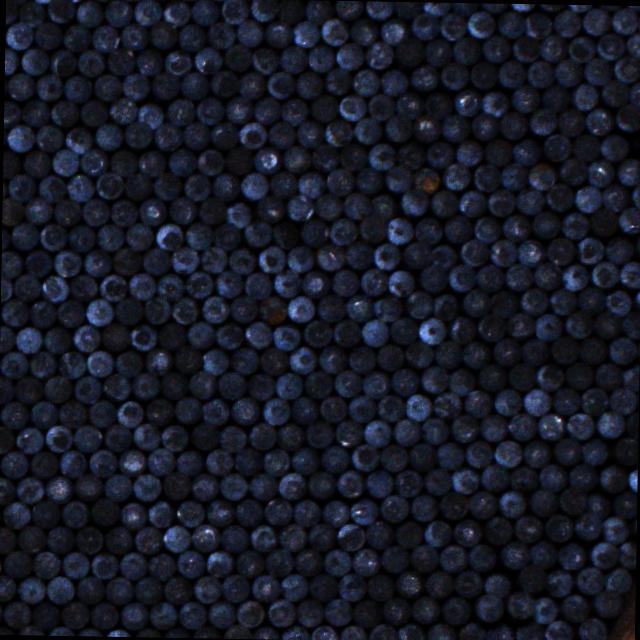tool: (342, 190, 372, 220), (256, 294, 286, 324), (558, 484, 588, 514), (592, 587, 622, 616), (154, 272, 183, 302), (509, 464, 538, 493), (359, 318, 388, 347), (224, 144, 252, 174), (298, 218, 328, 246), (595, 408, 623, 438), (558, 592, 588, 620), (100, 322, 128, 352), (44, 474, 72, 504), (482, 516, 512, 544), (588, 540, 616, 570), (120, 600, 148, 630), (254, 194, 283, 222), (462, 388, 490, 417), (552, 437, 581, 465), (538, 462, 567, 490), (388, 315, 417, 343), (217, 370, 245, 399), (304, 369, 332, 398), (390, 367, 418, 396), (88, 448, 116, 477), (73, 472, 101, 501), (2, 499, 30, 528), (190, 522, 218, 551), (234, 549, 262, 578), (438, 544, 467, 572), (352, 599, 381, 627), (89, 601, 118, 629), (273, 268, 300, 298), (46, 524, 73, 554), (278, 522, 305, 552), (411, 594, 438, 624), (466, 9, 494, 37), (192, 46, 220, 74), (395, 36, 423, 64), (266, 70, 294, 98), (526, 60, 554, 88), (424, 92, 452, 120), (338, 142, 366, 170), (366, 142, 394, 170), (589, 208, 617, 236), (152, 172, 180, 200), (326, 167, 354, 195), (530, 210, 558, 238), (314, 192, 342, 220), (184, 221, 212, 249), (38, 222, 66, 250), (154, 222, 182, 250), (112, 247, 140, 275), (52, 249, 80, 277), (315, 242, 343, 270), (459, 238, 487, 266), (488, 238, 516, 266), (474, 262, 502, 290), (416, 316, 444, 344), (544, 513, 572, 541), (575, 565, 603, 593), (476, 313, 504, 341), (577, 336, 605, 364), (550, 336, 578, 364), (520, 337, 548, 365), (492, 338, 520, 366), (578, 386, 606, 414), (522, 388, 550, 416), (514, 514, 542, 542), (528, 539, 556, 567), (516, 564, 544, 592), (441, 596, 469, 624), (84, 298, 112, 326), (200, 295, 228, 323), (156, 322, 184, 350), (316, 293, 344, 321), (344, 292, 372, 320), (230, 346, 258, 374), (258, 346, 286, 374), (318, 344, 346, 372), (14, 375, 42, 403), (102, 372, 130, 400), (130, 371, 158, 399), (58, 400, 86, 428), (230, 396, 258, 424), (262, 396, 290, 424), (318, 394, 346, 422), (346, 393, 374, 421), (72, 424, 100, 452), (190, 421, 218, 449), (304, 420, 332, 448), (362, 418, 390, 446), (420, 416, 448, 444), (146, 447, 174, 475), (320, 444, 348, 472), (350, 443, 378, 471), (379, 443, 407, 471), (132, 472, 160, 500), (189, 472, 217, 500), (218, 472, 246, 500), (248, 472, 276, 500), (364, 469, 392, 497), (380, 494, 408, 522), (219, 524, 247, 552), (336, 522, 364, 550), (365, 520, 393, 548), (600, 515, 628, 543), (147, 553, 175, 581), (175, 550, 203, 578), (264, 548, 292, 576), (294, 547, 322, 575), (322, 548, 350, 576), (192, 574, 220, 602), (279, 572, 307, 600), (308, 572, 336, 600), (394, 569, 422, 597), (424, 570, 452, 598), (266, 598, 294, 626), (235, 599, 263, 627), (60, 600, 88, 628), (49, 98, 78, 125), (188, 369, 215, 398), (361, 369, 388, 398), (432, 391, 461, 418), (351, 547, 378, 576), (504, 312, 534, 338), (74, 374, 100, 404), (162, 470, 188, 500), (91, 24, 118, 52), (320, 17, 347, 45), (380, 17, 408, 44), (411, 12, 438, 40), (334, 42, 362, 69), (364, 41, 392, 68), (481, 34, 508, 62), (180, 71, 207, 99), (166, 97, 194, 124), (5, 123, 32, 151), (352, 117, 380, 144), (51, 148, 78, 176), (483, 138, 511, 165), (442, 162, 469, 190), (499, 162, 526, 190), (545, 183, 573, 210), (296, 170, 323, 198), (384, 164, 411, 192), (24, 196, 51, 224), (52, 198, 80, 225), (329, 217, 356, 245), (170, 246, 197, 274), (12, 274, 40, 301), (41, 274, 68, 302), (98, 273, 125, 301), (419, 264, 446, 292), (545, 237, 573, 264), (576, 235, 603, 263), (604, 235, 632, 262), (505, 262, 532, 290), (214, 270, 241, 298), (243, 272, 270, 300), (300, 270, 327, 298), (359, 267, 386, 295), (404, 290, 431, 318), (434, 338, 461, 366), (478, 412, 505, 440), (493, 439, 520, 467), (518, 287, 546, 314), (577, 286, 604, 314), (592, 311, 620, 338), (608, 337, 636, 364), (461, 340, 488, 368), (507, 412, 535, 439), (522, 440, 549, 468), (599, 464, 626, 492), (568, 464, 596, 491), (497, 490, 525, 517), (228, 294, 255, 322), (186, 320, 213, 348), (244, 320, 271, 348), (304, 319, 332, 346), (57, 350, 84, 378), (174, 344, 201, 372), (288, 344, 315, 372), (159, 371, 186, 399), (333, 368, 360, 396), (376, 394, 404, 421), (404, 392, 431, 420), (218, 424, 245, 452), (334, 418, 361, 446), (392, 418, 419, 446), (0, 449, 27, 477), (29, 450, 56, 478), (118, 448, 145, 476), (233, 447, 261, 474), (290, 446, 317, 474), (435, 442, 463, 469), (15, 476, 42, 504), (276, 472, 304, 499), (306, 471, 334, 498), (394, 468, 421, 496), (450, 466, 477, 494), (468, 491, 496, 518), (61, 500, 88, 528), (90, 498, 117, 526), (175, 499, 203, 526), (234, 498, 261, 526), (292, 498, 319, 526), (409, 493, 436, 521), (17, 524, 44, 552), (162, 523, 189, 551), (453, 518, 480, 546), (61, 550, 88, 578), (118, 551, 145, 579), (205, 550, 232, 578), (380, 544, 407, 572), (409, 544, 436, 572), (16, 576, 44, 603), (46, 575, 73, 603), (105, 576, 132, 604), (134, 576, 161, 604), (164, 576, 191, 604), (221, 573, 248, 601), (382, 596, 409, 624), (207, 600, 234, 628), (178, 601, 205, 629), (149, 600, 176, 628), (2, 600, 30, 627), (242, 220, 271, 246), (348, 498, 377, 524), (34, 21, 61, 48), (149, 20, 176, 47), (106, 47, 133, 74), (164, 49, 191, 76), (223, 43, 250, 70), (121, 72, 148, 99), (109, 96, 136, 123), (396, 91, 423, 118), (499, 111, 526, 138), (253, 146, 280, 173), (123, 173, 150, 200), (355, 167, 382, 194), (458, 189, 485, 216), (501, 214, 528, 241), (81, 198, 108, 225), (198, 197, 225, 224), (11, 222, 38, 249), (125, 222, 152, 249), (23, 249, 50, 276), (516, 239, 543, 266), (493, 388, 520, 415), (536, 412, 563, 439), (499, 541, 526, 568), (72, 324, 99, 351), (272, 323, 299, 350), (115, 349, 142, 376), (420, 365, 447, 392), (88, 399, 115, 426), (173, 396, 200, 423), (15, 425, 42, 452), (103, 423, 130, 450), (132, 422, 159, 449), (248, 422, 275, 449), (450, 414, 477, 441), (58, 449, 85, 476), (103, 474, 130, 501), (205, 499, 232, 526), (103, 0, 131, 26), (133, 0, 161, 26), (120, 22, 146, 50), (236, 18, 262, 46), (264, 21, 292, 47), (292, 19, 318, 47), (439, 12, 465, 40), (522, 12, 550, 38), (582, 8, 610, 34), (19, 48, 47, 74), (250, 46, 276, 74), (278, 46, 306, 72), (596, 33, 624, 59), (6, 72, 32, 100), (555, 58, 581, 86), (252, 96, 278, 124), (309, 94, 337, 120), (571, 82, 597, 110), (168, 148, 194, 176), (282, 146, 310, 172), (454, 140, 482, 166), (512, 138, 538, 166), (542, 134, 570, 160), (571, 134, 599, 160), (599, 134, 627, 160), (526, 163, 554, 189), (558, 158, 586, 184), (560, 212, 588, 238), (7, 172, 33, 200), (66, 173, 92, 201), (94, 172, 122, 198), (212, 173, 238, 201), (268, 170, 294, 198), (412, 166, 438, 194), (384, 218, 412, 244), (443, 215, 471, 241), (472, 216, 500, 242), (110, 198, 136, 226), (225, 200, 251, 228), (286, 192, 312, 220), (358, 214, 384, 242), (128, 272, 154, 300), (199, 246, 227, 272), (286, 244, 312, 272), (344, 241, 372, 267), (402, 242, 430, 268), (532, 262, 560, 288), (590, 261, 618, 287), (330, 269, 358, 295), (528, 488, 556, 514), (488, 290, 516, 316), (564, 310, 590, 338), (594, 362, 620, 390), (564, 362, 592, 388), (552, 386, 578, 414), (544, 568, 572, 594), (474, 594, 502, 620), (452, 570, 480, 596), (1, 298, 27, 326), (28, 299, 54, 327), (56, 299, 82, 327), (114, 296, 140, 324), (171, 296, 197, 324), (286, 294, 312, 322), (332, 318, 358, 346), (44, 374, 70, 402), (248, 372, 274, 400), (274, 372, 302, 398), (0, 400, 26, 428), (30, 400, 56, 428), (200, 398, 228, 424), (44, 424, 70, 452), (204, 448, 232, 474), (408, 442, 434, 470), (336, 468, 362, 496), (422, 468, 450, 494), (438, 492, 466, 518), (32, 498, 58, 526), (322, 500, 348, 528), (74, 525, 100, 553), (133, 526, 161, 552), (248, 523, 274, 551), (307, 522, 333, 550), (2, 550, 30, 576), (32, 550, 58, 578), (76, 574, 102, 602), (250, 574, 278, 600), (338, 572, 364, 600), (323, 598, 351, 624), (296, 598, 322, 626), (372, 295, 401, 320), (162, 0, 189, 26), (62, 24, 88, 51), (177, 24, 203, 51), (349, 18, 376, 44), (553, 10, 579, 37), (611, 7, 637, 34), (77, 49, 103, 76), (423, 38, 449, 65), (452, 37, 478, 64), (540, 34, 566, 61), (567, 36, 594, 62), (92, 74, 119, 100), (295, 72, 322, 98), (470, 62, 496, 89), (498, 61, 524, 88), (583, 57, 609, 84), (21, 100, 48, 126), (196, 97, 222, 124), (225, 96, 251, 123), (280, 98, 306, 125), (512, 85, 538, 112), (64, 125, 90, 152), (238, 121, 264, 148), (412, 114, 438, 141), (584, 107, 610, 134), (22, 150, 49, 176), (80, 148, 106, 175), (138, 150, 164, 177), (425, 141, 452, 167), (586, 159, 612, 186), (601, 183, 627, 210), (183, 172, 209, 199), (240, 172, 266, 199), (430, 190, 456, 217), (414, 217, 440, 244), (515, 186, 542, 212), (138, 197, 164, 224), (168, 196, 194, 223), (271, 221, 297, 248), (212, 222, 238, 249), (68, 225, 94, 252), (96, 223, 122, 250), (142, 248, 169, 274), (84, 249, 110, 276), (68, 274, 95, 300), (184, 272, 211, 298), (258, 245, 284, 272), (558, 542, 584, 569), (548, 288, 575, 314), (534, 312, 560, 339), (566, 411, 592, 438), (482, 464, 508, 491), (468, 543, 494, 570), (505, 590, 532, 616), (14, 326, 41, 352), (42, 327, 69, 353), (214, 322, 241, 348), (0, 350, 26, 377), (28, 350, 54, 377), (85, 349, 111, 376), (144, 347, 170, 374), (201, 348, 228, 374), (376, 343, 402, 370), (116, 399, 142, 426), (145, 398, 172, 424), (290, 396, 317, 422), (160, 424, 187, 450), (276, 422, 302, 449), (147, 499, 173, 526), (263, 498, 290, 524), (424, 520, 451, 546), (574, 512, 600, 539), (190, 0, 218, 25), (368, 92, 393, 120), (487, 188, 512, 216), (448, 368, 473, 396), (448, 315, 473, 343), (143, 295, 168, 323), (404, 342, 432, 367), (612, 490, 637, 518), (576, 616, 605, 640), (76, 0, 102, 26), (5, 22, 31, 48), (207, 21, 233, 47), (306, 45, 332, 71), (512, 35, 538, 61), (64, 75, 90, 101), (151, 72, 177, 98), (238, 72, 264, 98), (410, 65, 436, 91), (614, 56, 640, 82), (80, 100, 106, 126), (454, 90, 480, 116), (34, 124, 60, 150), (94, 123, 120, 149), (154, 123, 180, 149), (268, 120, 294, 146), (324, 120, 350, 146), (529, 108, 555, 134), (109, 150, 135, 176), (196, 148, 222, 174), (312, 144, 338, 170), (473, 164, 499, 190), (574, 186, 600, 212), (372, 242, 398, 268), (448, 264, 474, 290), (561, 264, 587, 290), (431, 292, 457, 318), (462, 288, 488, 314), (604, 290, 630, 316), (478, 364, 504, 390), (582, 438, 608, 464), (465, 440, 491, 466), (348, 346, 374, 372), (175, 448, 201, 474), (262, 448, 288, 474), (119, 502, 145, 528), (104, 526, 130, 552), (395, 522, 421, 548), (90, 552, 116, 578), (366, 574, 392, 600), (49, 48, 74, 75), (441, 63, 466, 90), (383, 115, 410, 140), (615, 157, 640, 184), (430, 243, 455, 270), (508, 364, 535, 389), (613, 437, 638, 464), (32, 601, 57, 628), (604, 568, 632, 592), (138, 101, 162, 129), (38, 174, 62, 202), (17, 0, 42, 26), (497, 12, 522, 38), (135, 49, 161, 74), (36, 73, 61, 99), (210, 70, 235, 96), (482, 91, 508, 116), (542, 86, 568, 111), (296, 120, 321, 146), (471, 113, 496, 139), (615, 104, 640, 130), (397, 142, 422, 168), (401, 188, 426, 214), (370, 193, 395, 219), (228, 248, 253, 274), (388, 270, 413, 296), (608, 387, 634, 412), (536, 364, 562, 389), (129, 324, 155, 349), (352, 68, 376, 95), (124, 122, 151, 146), (532, 596, 556, 623), (220, 0, 248, 23), (304, 0, 332, 23), (617, 205, 640, 233), (324, 69, 349, 94), (380, 70, 406, 94), (338, 96, 364, 120), (602, 80, 626, 106), (182, 122, 206, 148), (442, 115, 466, 141), (210, 122, 234, 147), (46, 0, 73, 22), (1, 196, 22, 224), (558, 110, 582, 134), (484, 572, 508, 596), (277, 0, 303, 22), (587, 492, 609, 518), (250, 0, 277, 21), (543, 619, 570, 640), (620, 310, 640, 338), (515, 620, 543, 640), (619, 260, 640, 286), (1, 250, 21, 277), (456, 620, 483, 640), (364, 1, 392, 20), (616, 542, 636, 568), (334, 1, 361, 20), (485, 622, 513, 640), (392, 1, 421, 18), (427, 622, 453, 640), (397, 622, 423, 640), (369, 623, 396, 640), (280, 624, 308, 640), (3, 101, 20, 127), (339, 623, 365, 640), (2, 151, 18, 178), (621, 366, 639, 390), (309, 624, 336, 640), (0, 525, 15, 552), (624, 410, 638, 438), (0, 476, 14, 504), (223, 624, 251, 638), (625, 31, 640, 57), (450, 2, 477, 16), (0, 573, 14, 600), (421, 2, 449, 15), (0, 425, 13, 453), (192, 625, 220, 638), (252, 625, 278, 639), (0, 324, 13, 351), (628, 80, 640, 106), (5, 46, 16, 74), (0, 375, 11, 403), (5, 0, 16, 23), (1, 274, 10, 300)
tool_b: (623, 131, 640, 159)
